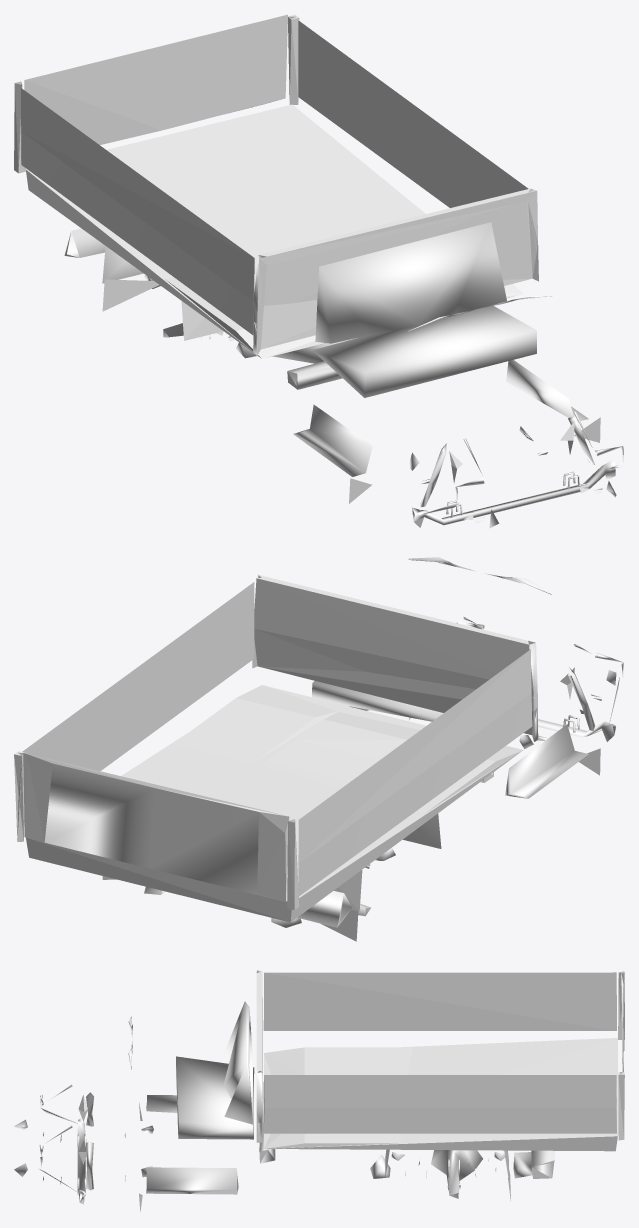
3 renders of one model, top to bottom at view 1: azimuth 30°, elevation 25°; view 2: azimuth 150°, elevation 25°; view 3: azimuth 270°, elevation 25°, orthographic. The views are drawn at different scales.
Bounding box in the file's own units: 2.45 × 1.73 × 6.08.
1 material, 1 textured.
